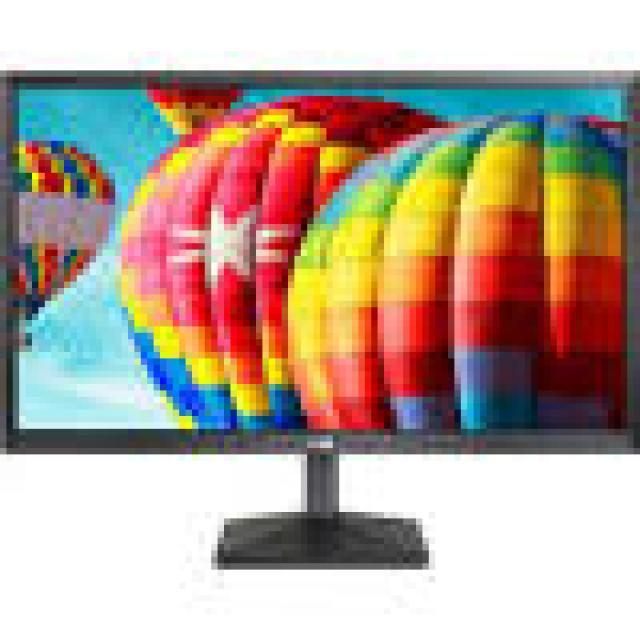monitor: (0, 64, 636, 615)
